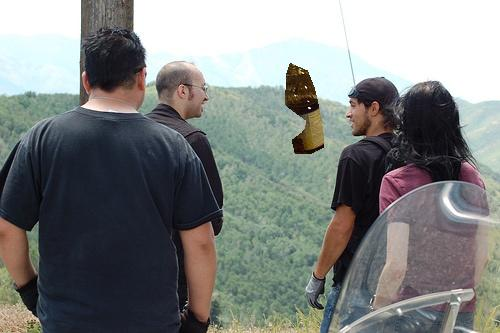tampered: (286, 64, 324, 154)
